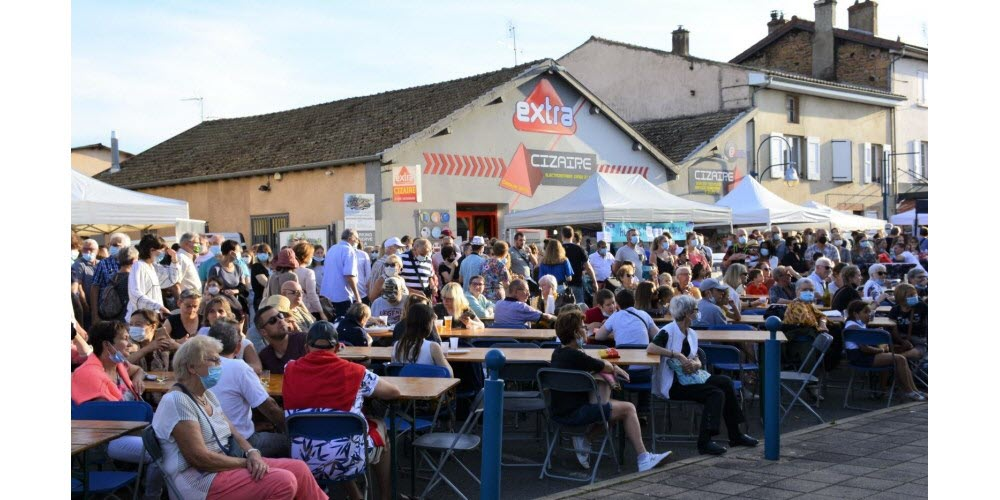with_incorrect_mask: (99, 325, 134, 364), (565, 315, 590, 347)
with_mask: (190, 345, 225, 399), (677, 294, 699, 327), (148, 236, 165, 264), (625, 228, 642, 247), (227, 246, 245, 262), (382, 261, 398, 276), (658, 237, 670, 251)
without_mask: (259, 311, 287, 338), (442, 291, 456, 313)
